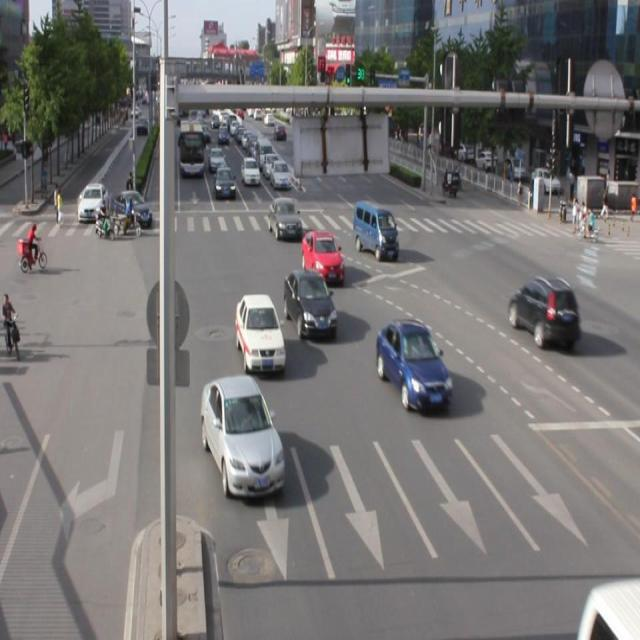BigCar: (181, 118, 206, 185)
car: (192, 372, 285, 514), (381, 322, 448, 431), (515, 272, 576, 356), (232, 289, 286, 377), (351, 200, 406, 275), (64, 172, 117, 249), (288, 258, 330, 348), (295, 219, 346, 287), (264, 204, 304, 236), (240, 144, 264, 197), (212, 159, 242, 195), (273, 152, 295, 192)
